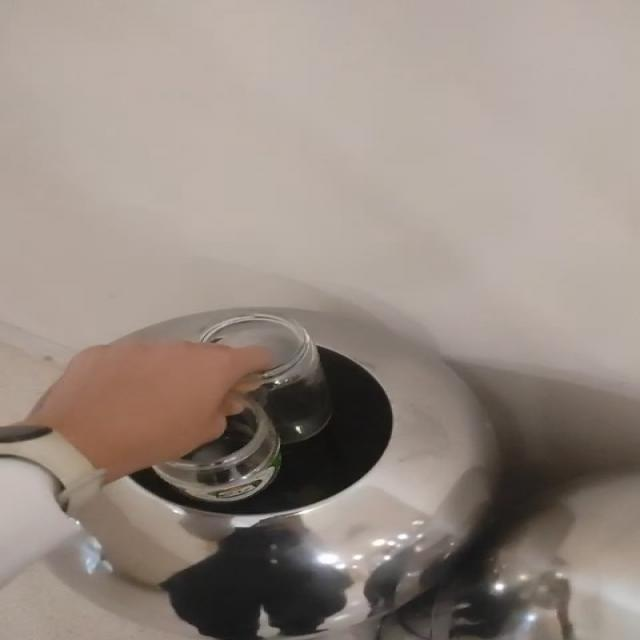Glass: (153, 314, 332, 502)
